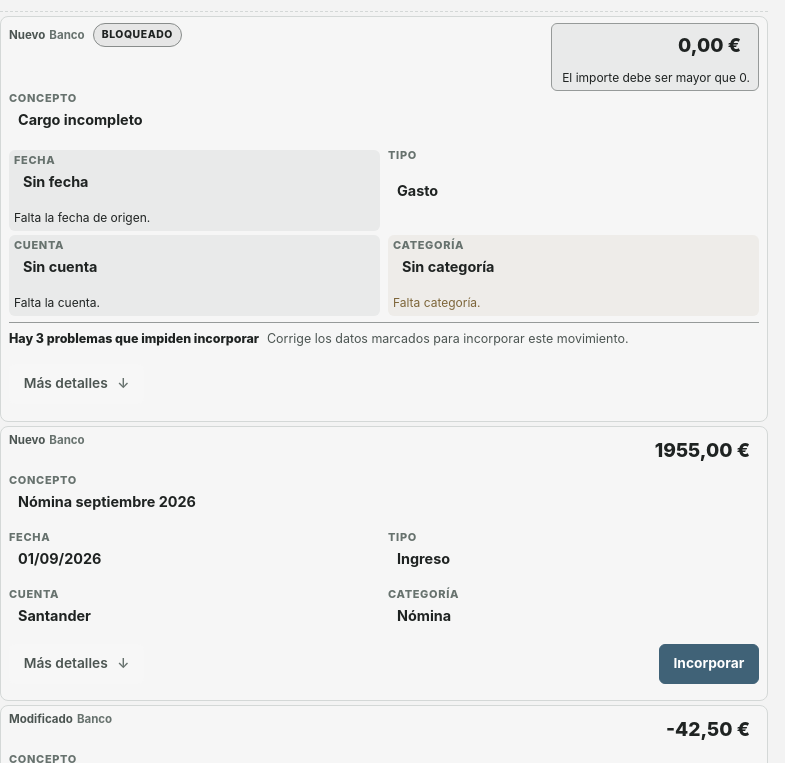
Test: Review Decision Queue UI Lab › mantiene los errores junto al campo y deja la relación transversal abajo
(page scrolled)
Expected: the text "Sin cuenta" is shown, x1=14 y1=253 x2=375 y2=293
Expected: the text "Sin fecha" is shown, x1=14 y1=168 x2=375 y2=208
Click the button "Más detalles" below "Hay 3 problemas que impiden incorporar".
click(76, 384)  # box x1=9 y1=364 x2=144 y2=404
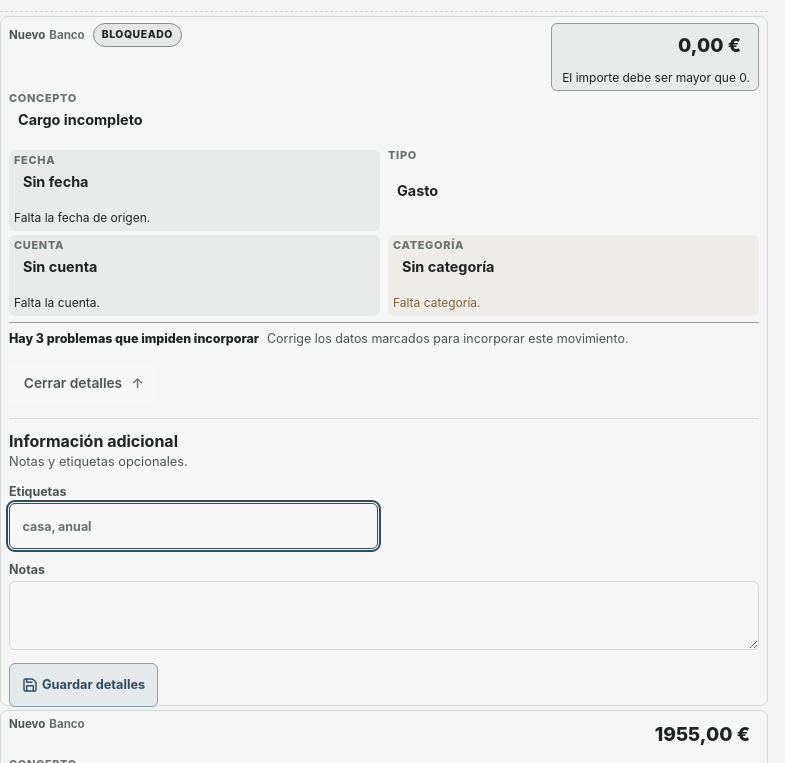
Expected: the button "Cerrar detalles" is expanded, x1=9 y1=364 x2=158 y2=404
Expected: the heading "Información adicional" is shown, x1=9 y1=431 x2=178 y2=451
Expected: the text "Notas y etiquetas opcionales." is shown, x1=9 y1=454 x2=188 y2=469
Click the button "Guardar detalles".
click(84, 685)  # box x1=9 y1=663 x2=158 y2=707
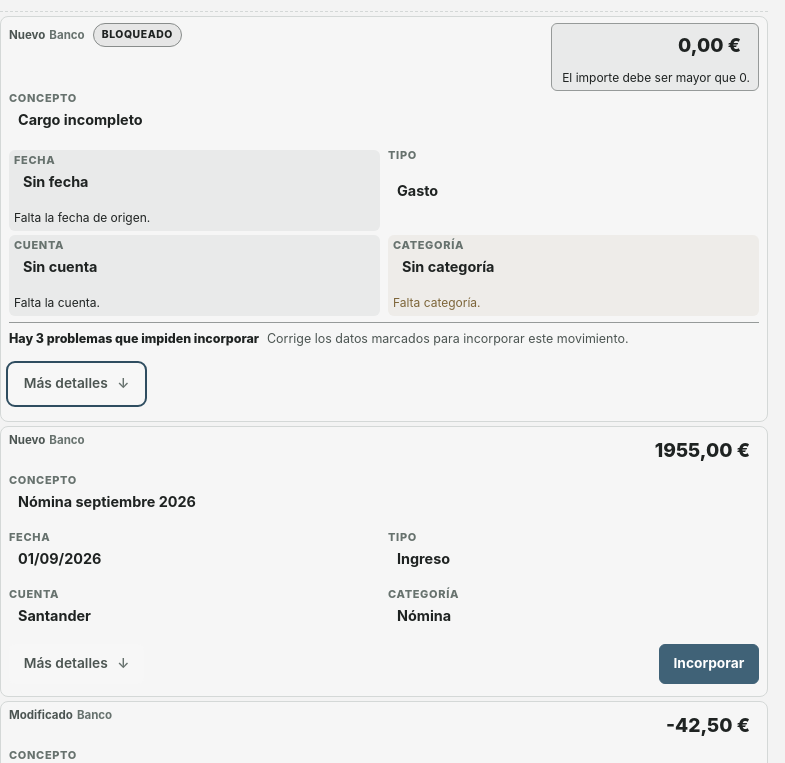
Expected: the button "Más detalles" below "Hay 3 problemas que impiden incorporar" is collapsed, x1=9 y1=364 x2=144 y2=404
